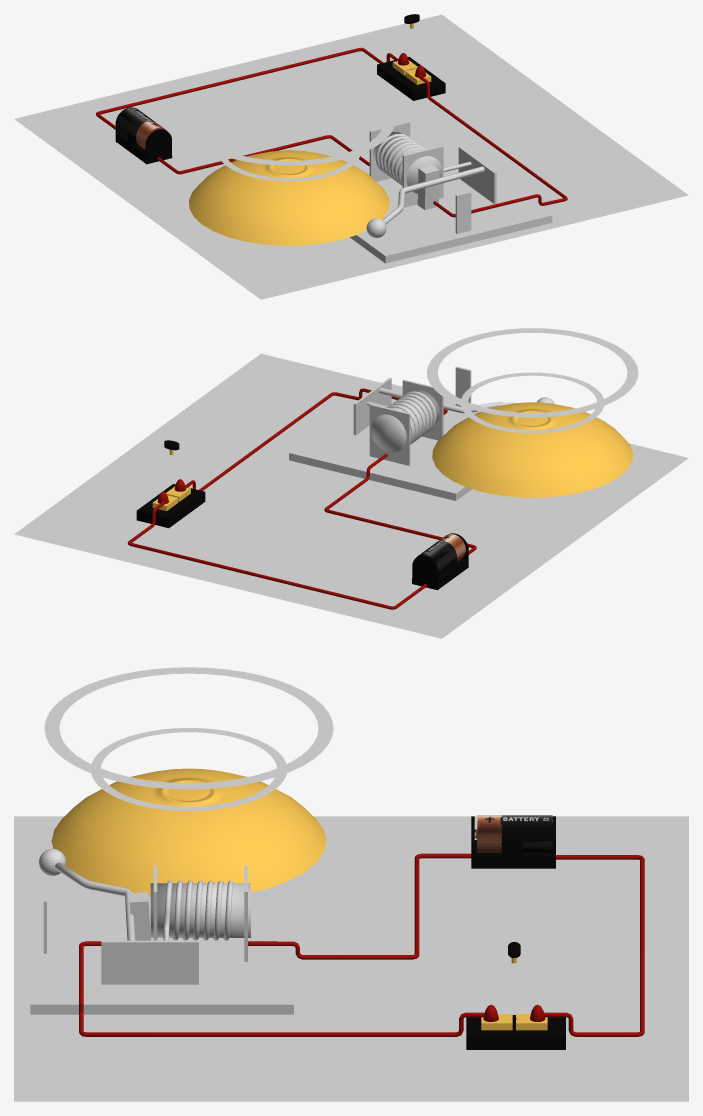
File: Electric bell.fbx
3 views of the same model, one above another, from view 1: azimuth 30°, elevation 25°; view 2: azimuth 150°, elevation 25°; view 3: azimuth 270°, elevation 25° (orthographic). The views are drawn at different scales.
Parts seen in each view (by area): view 1: Plane.001, Sphere, Plane.002, Plane, Torus, Plane.006, Sphere.001, Cube.001, Plane.003, Cylinder.003; view 2: Plane.001, Sphere, Plane.002, Plane, Torus, Plane.006, Cube.001, Plane.003, Cylinder.003, Sphere.001; view 3: Plane.001, Sphere, Plane.002, Plane, Torus, Plane.006, Cylinder.003, Plane.003, Sphere.001, Cube.001, Plane.005.
Boxes of the visible parts, box(x1,y1,x2,y2) form: Plane.001: box(14, 14, 688, 299); Sphere: box(189, 150, 389, 245); Plane.002: box(350, 145, 552, 263); Plane: box(369, 121, 496, 233); Torus: box(183, 76, 394, 181); Plane.006: box(96, 47, 567, 217); Sphere.001: box(366, 164, 484, 238); Cube.001: box(115, 107, 172, 164); Plane.003: box(377, 57, 445, 100); Cylinder.003: box(117, 107, 166, 148); Plane.001: box(14, 353, 688, 638); Sphere: box(432, 402, 632, 497); Plane.002: box(289, 384, 479, 500); Plane: box(353, 366, 471, 465); Torus: box(427, 328, 638, 433); Plane.006: box(127, 388, 476, 609); Cube.001: box(412, 533, 468, 590); Plane.003: box(136, 484, 205, 528); Cylinder.003: box(416, 534, 465, 574); Sphere.001: box(379, 387, 554, 413); Plane.001: box(14, 816, 688, 1101); Sphere: box(51, 768, 326, 896); Plane.002: box(30, 893, 293, 1014); Plane: box(43, 865, 250, 984); Torus: box(44, 667, 333, 810); Plane.006: box(79, 853, 644, 1036); Cylinder.003: box(474, 815, 552, 852); Plane.003: box(466, 1015, 565, 1049); Sphere.001: box(39, 848, 150, 940); Cube.001: box(471, 816, 555, 868); Plane.005: box(481, 1014, 547, 1030).
Bounding box in the file's own units: 1138 × 292 × 1138.
Materials: 4 (1 with a texture image).
